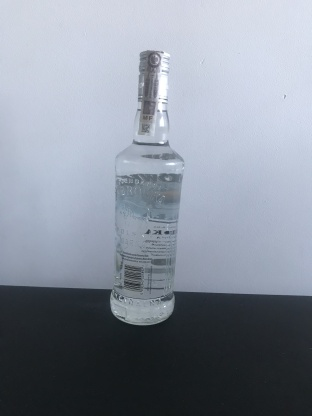nakretka: (135, 45, 172, 106)
